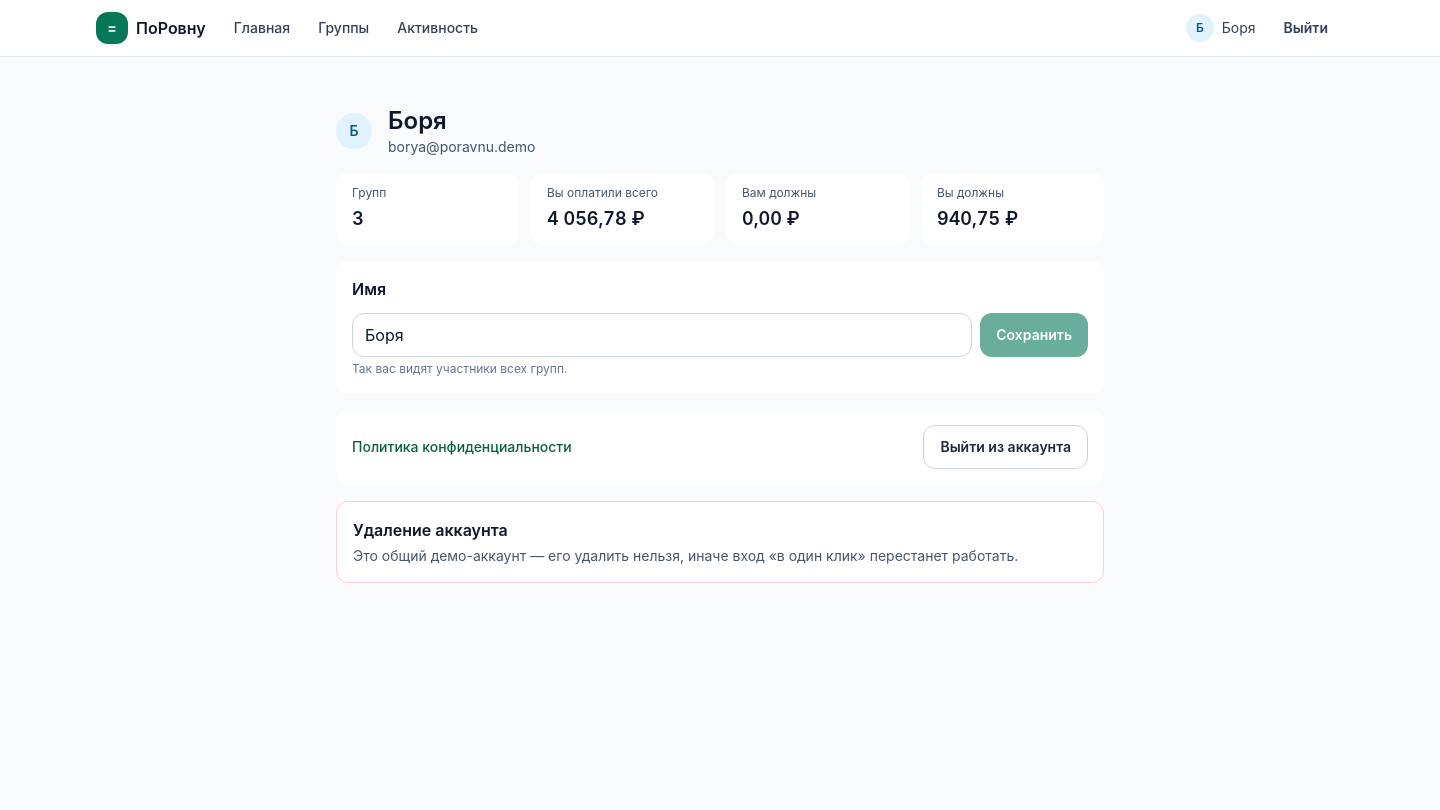
профиль (ДЗ6) › пустое имя не сохраняется
Step 1. Clear the field named "Как вас видят в группах" → (662, 335), box [352,313,972,357]
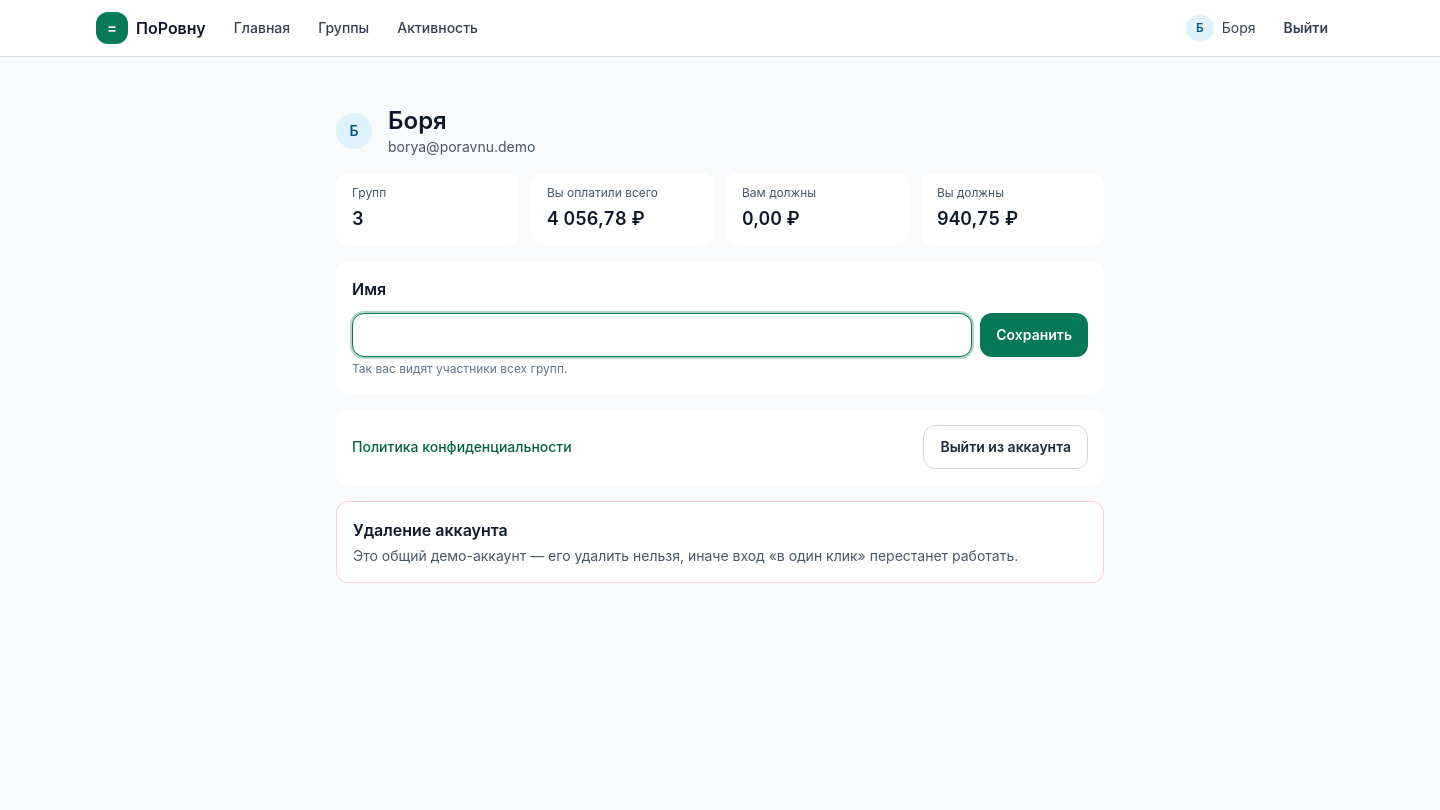
Step 2. Click the button "Сохранить" → (1034, 335), box [980,313,1088,357]
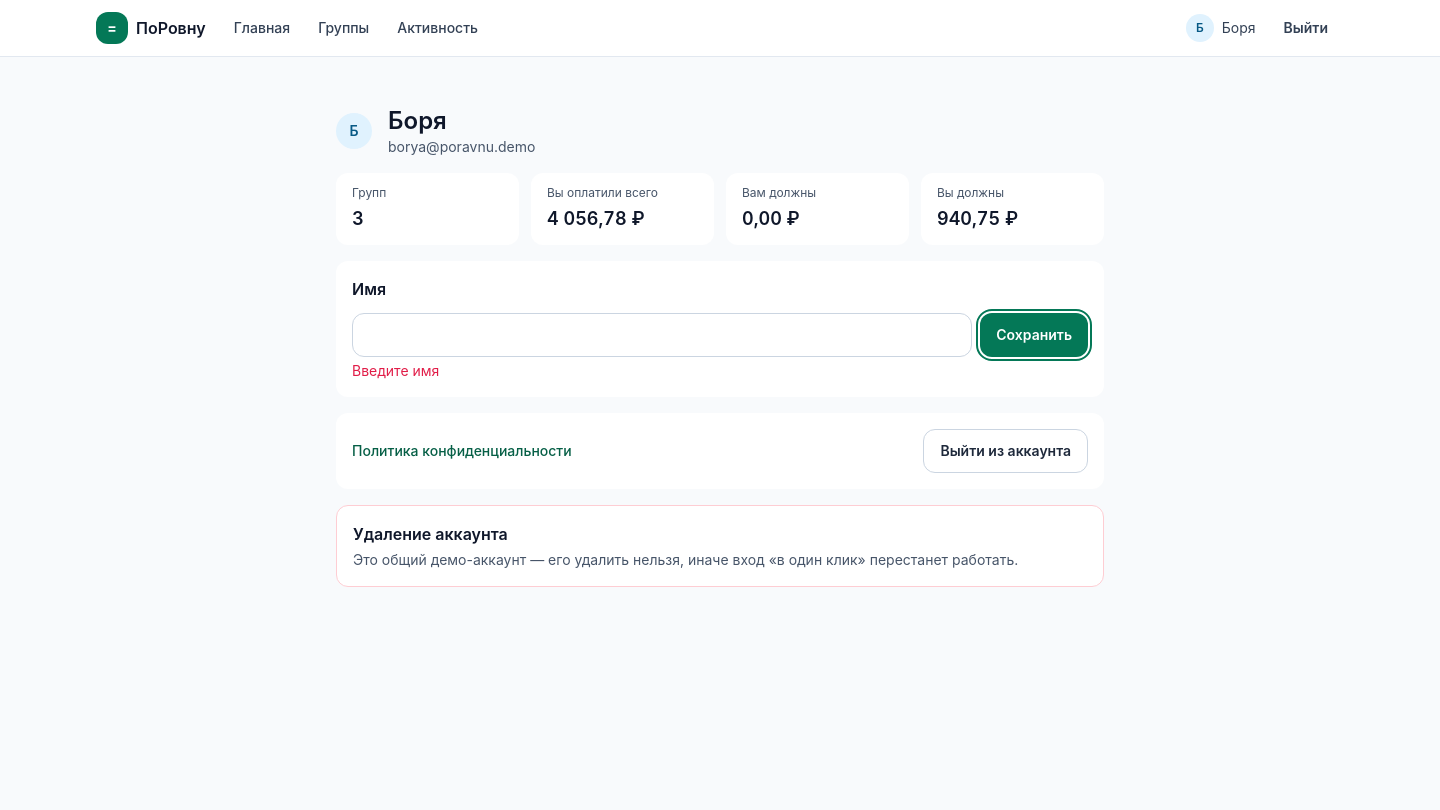
Result: the message reads "Введите имя" at [352,362,439,379]
